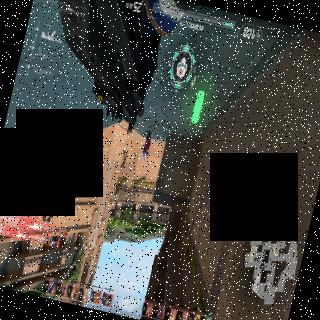ENEMY-BODY: (139, 128, 154, 164)
ENEMY-HEAD: (142, 158, 145, 162)
